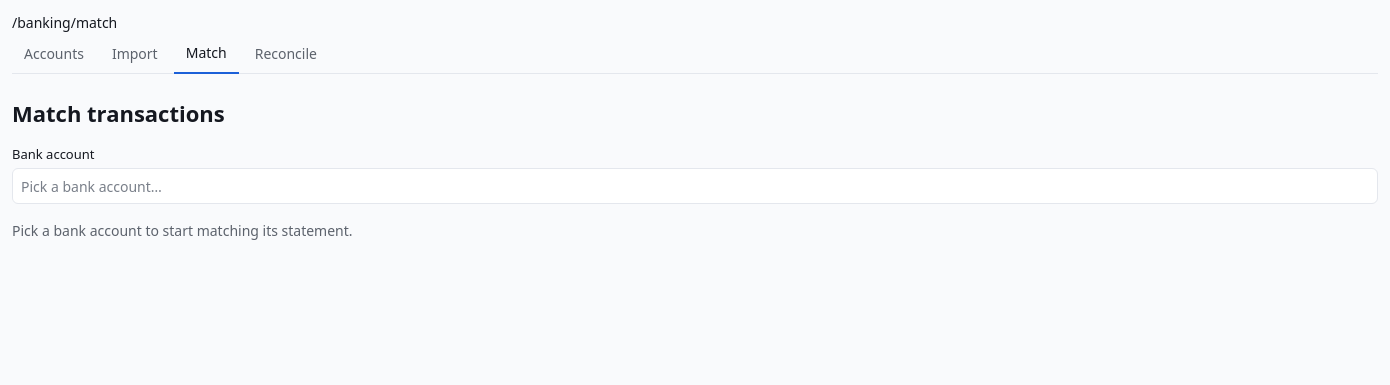
Test: the banking section routing › clicking a tab replaces the sub-route, it does not append to it
The width and height of the screenshot is (1390, 385).
Expected: the text with test id "path" reads "/banking/match", [12,13,117,32]
What coordinates should you click on to do the following:
click the link "Import"
I would click on:
 (135, 54)
Its box is [112,44,158,63].
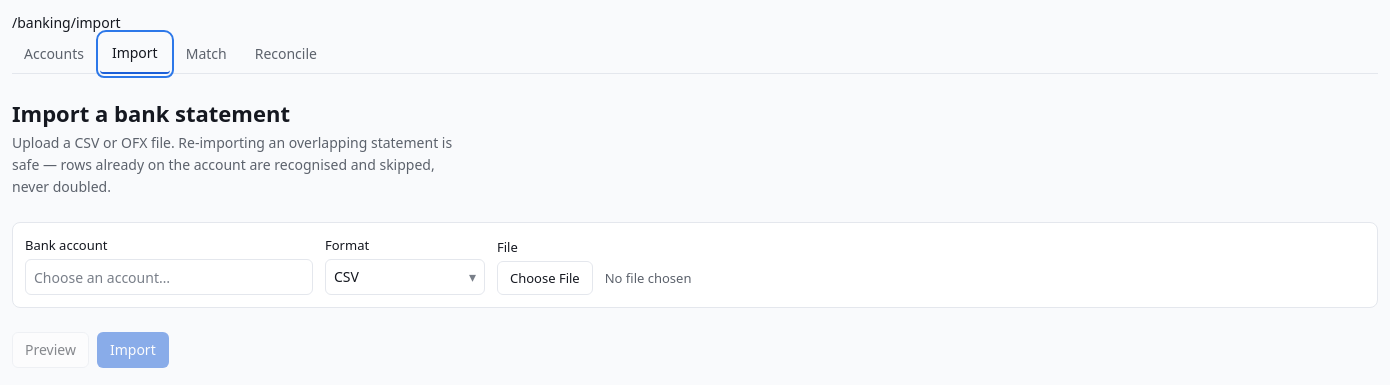
Expected: the text with test id "path" reads "/banking/import", [12,13,120,32]
